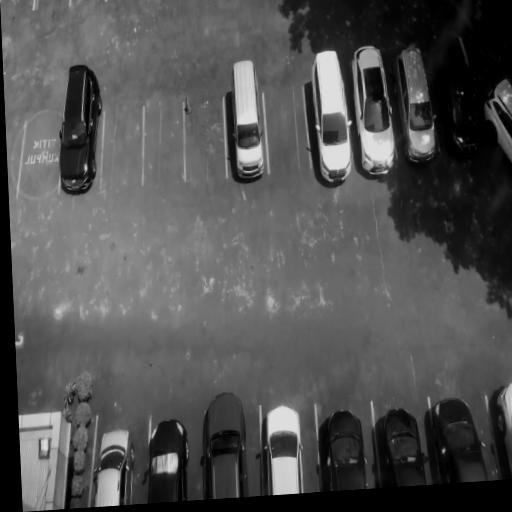Car: (346, 39, 400, 177), (433, 33, 488, 162), (303, 46, 354, 184), (390, 42, 442, 167), (57, 63, 105, 193), (428, 395, 490, 481), (227, 57, 268, 183), (203, 390, 250, 497), (375, 403, 430, 485), (323, 404, 371, 490), (264, 401, 305, 496), (145, 418, 190, 504), (93, 427, 139, 507), (478, 68, 512, 169), (489, 383, 512, 478)
Space Available: (262, 85, 313, 175), (183, 99, 226, 184), (141, 102, 184, 185), (16, 116, 60, 197), (101, 108, 142, 193)
